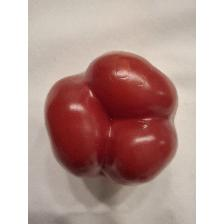Paprika: (42, 48, 182, 188)
